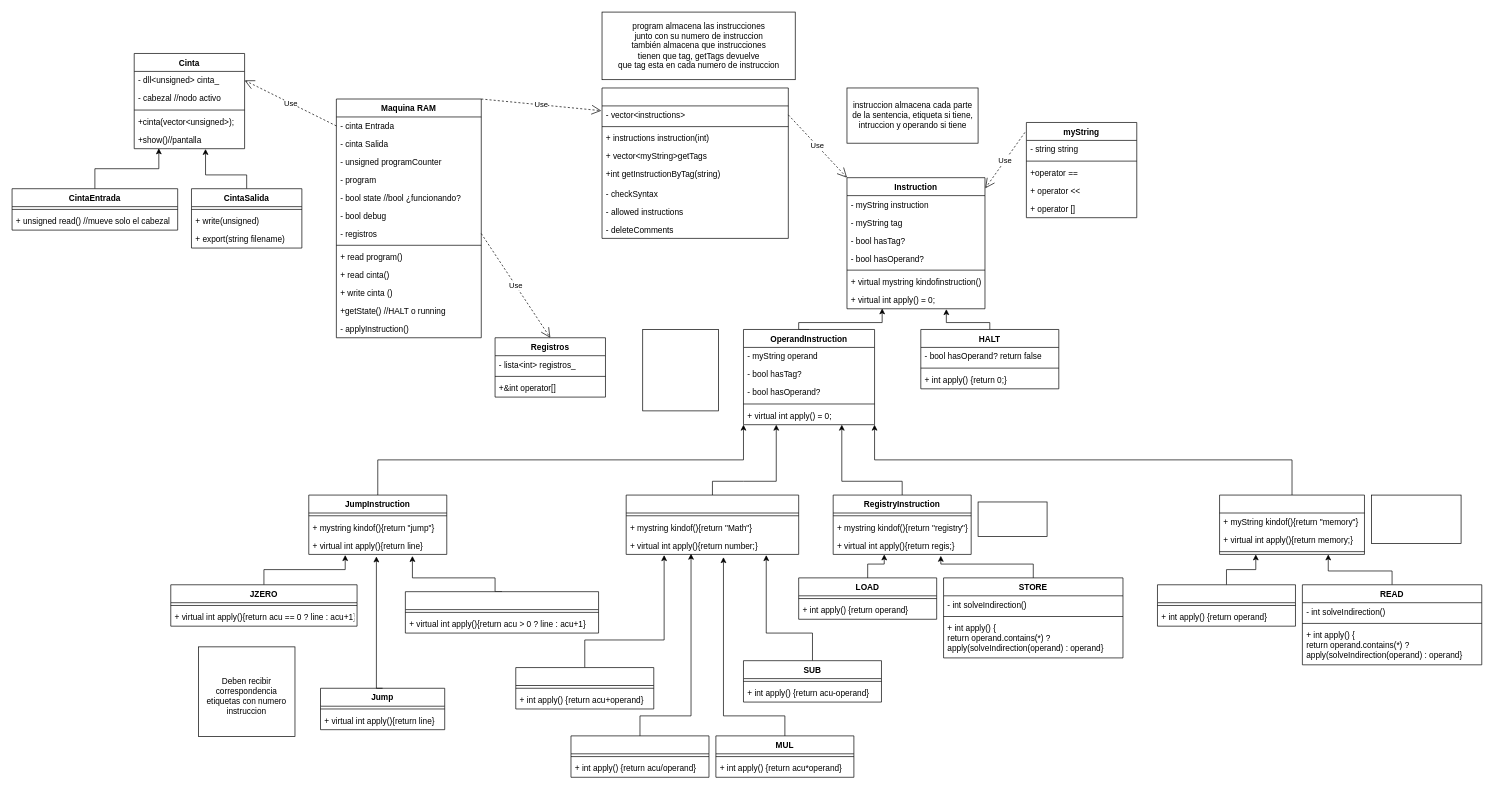
The diagram is 1494 pixels wide and 791 high, and some of its shapes have lost their labels. The box of each missing label's shape, as (x1, y1, x2, y2) in pixels:
ADD: (515, 667, 654, 709)
de acu a reg de reg a acu: (977, 501, 1047, 536)
de cinta entrada a acu de acu a cinta entrada: (1371, 494, 1461, 543)
Deben tener un puntero al acumulador o recibirlo de alguna manera: (642, 329, 719, 411)
DIV: (570, 735, 709, 777)
JGTZ: (405, 591, 599, 633)
MathInstruction: (625, 494, 799, 554)
MemoryInstruction: (1219, 494, 1364, 554)
Program: (601, 87, 788, 238)
WRITE: (1157, 584, 1295, 626)
